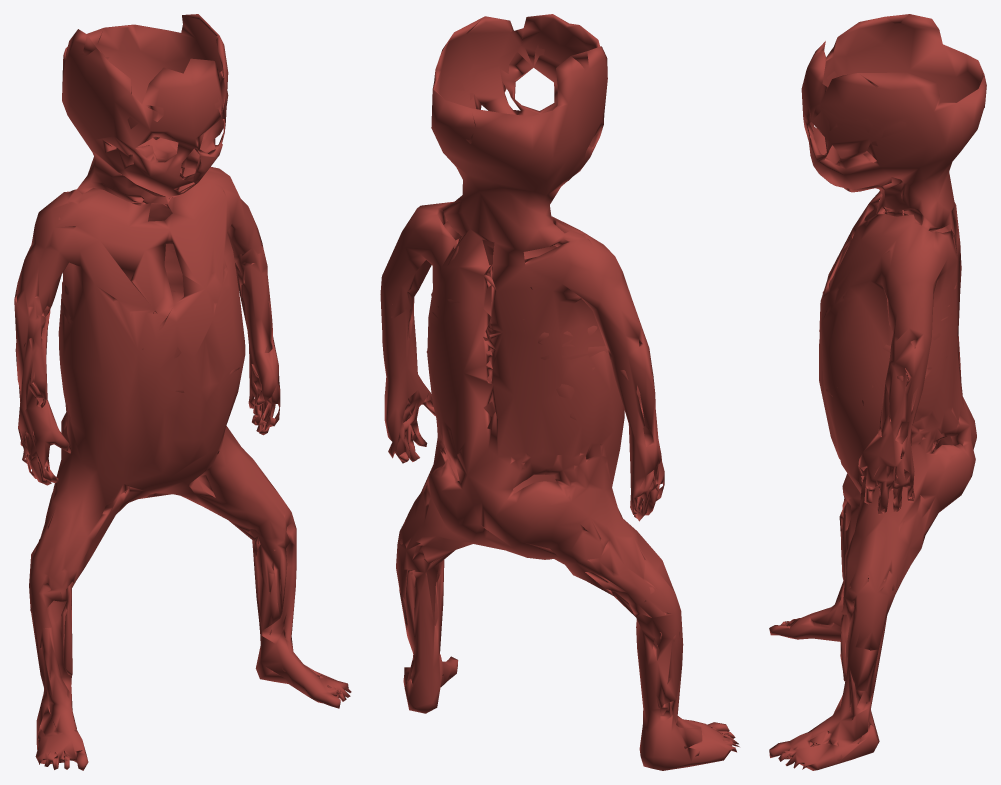
File: pediatric_neonate_male.muscular.LOD3.glb
The picture shows the model from 3 angles, left to right: view 1: azimuth 30°, elevation 25°; view 2: azimuth 150°, elevation 25°; view 3: azimuth 270°, elevation 25°; orthographic projection. The views are drawn at different scales.
Parts seen in each view (by area): view 1: PEDIATRIC.NEONATE.MALE.MUSCULAR.MUSCLE; view 2: PEDIATRIC.NEONATE.MALE.MUSCULAR.MUSCLE; view 3: PEDIATRIC.NEONATE.MALE.MUSCULAR.MUSCLE.
Boxes of the visible parts, bbox=[...] form: PEDIATRIC.NEONATE.MALE.MUSCULAR.MUSCLE: bbox=[14, 14, 351, 770]; PEDIATRIC.NEONATE.MALE.MUSCULAR.MUSCLE: bbox=[380, 14, 739, 770]; PEDIATRIC.NEONATE.MALE.MUSCULAR.MUSCLE: bbox=[769, 14, 986, 770].
Size of the model in its own units: 0.2234 by 0.4626 by 0.1379.
